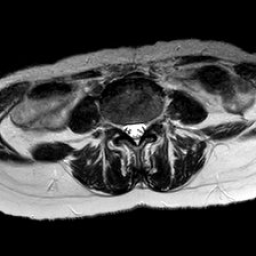CCS_normal: (131, 112, 139, 150)
LFS_stenosis: (147, 108, 155, 133)
LLS_normal: (139, 113, 147, 141)
RFS_stenosis: (113, 112, 122, 136)
RLS_normal: (122, 114, 131, 141)
